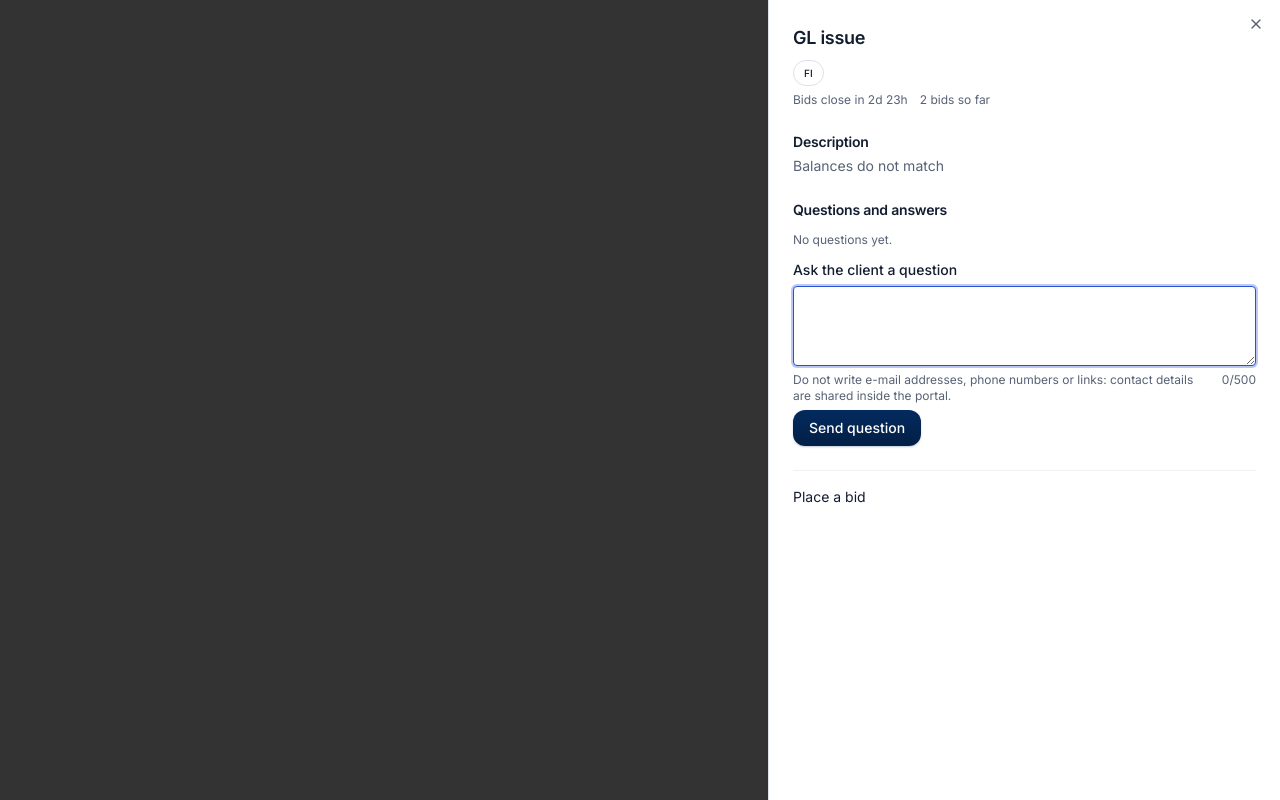
Test: OpenRequestPanel › checks the length and sends the question
This screenshot has width=1280, height=800.
Later steps or results of the test are not shown.
In the text box labelled "Ask the client a question": (1024, 326) [793,286,1256,366], type "abc"
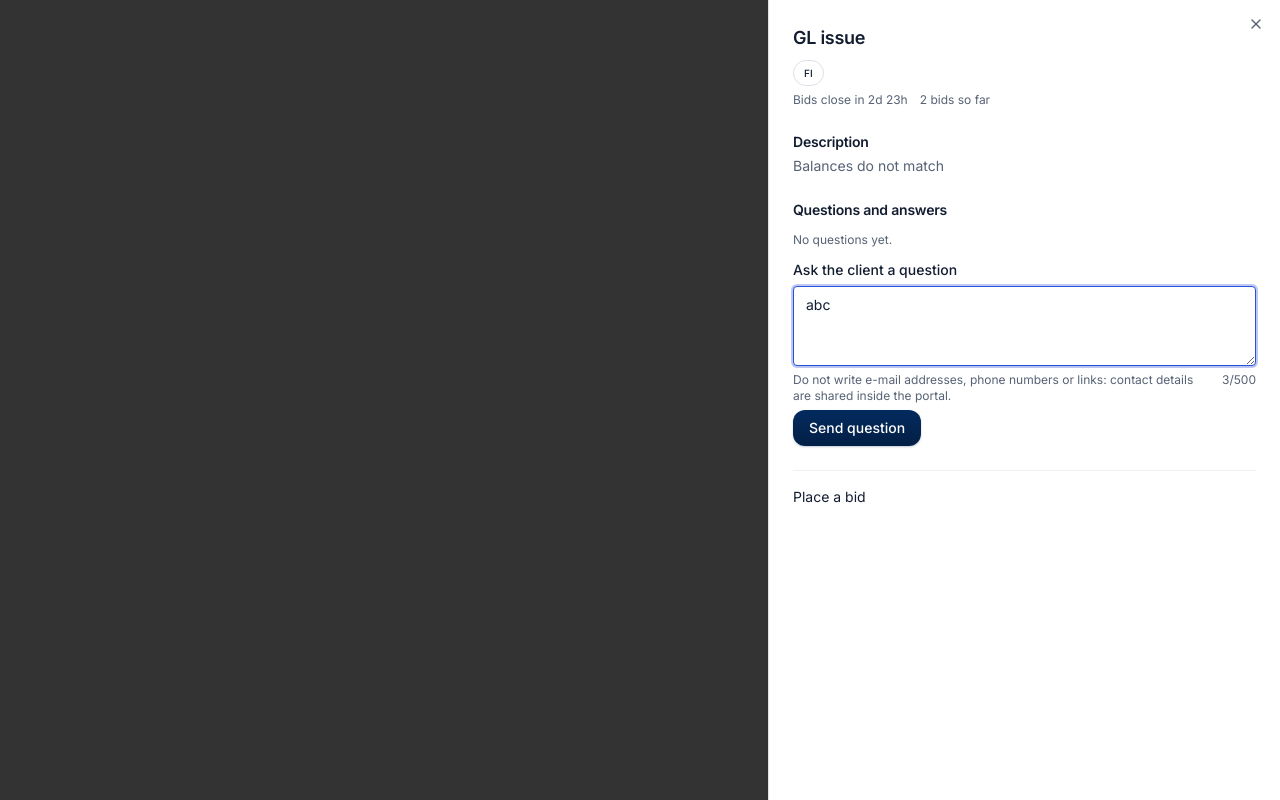
Click the button "Send question": (857, 428) [793,410,921,446]
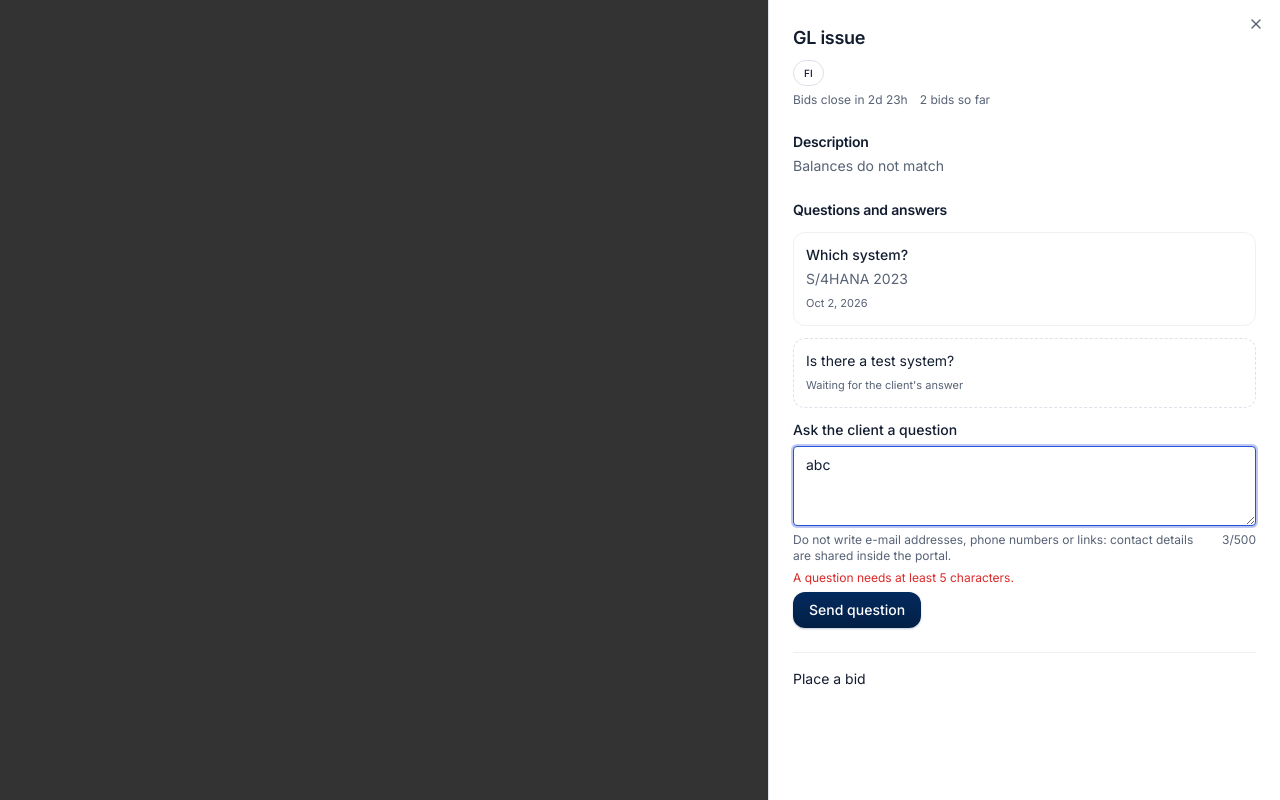
Expected: the message "A question needs at least 5 characters." is shown, [793,570,1014,585]
